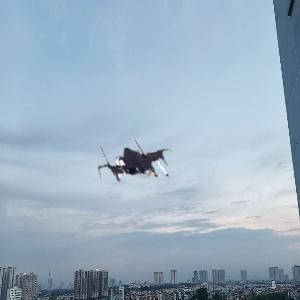drone: (96, 122, 181, 207)
